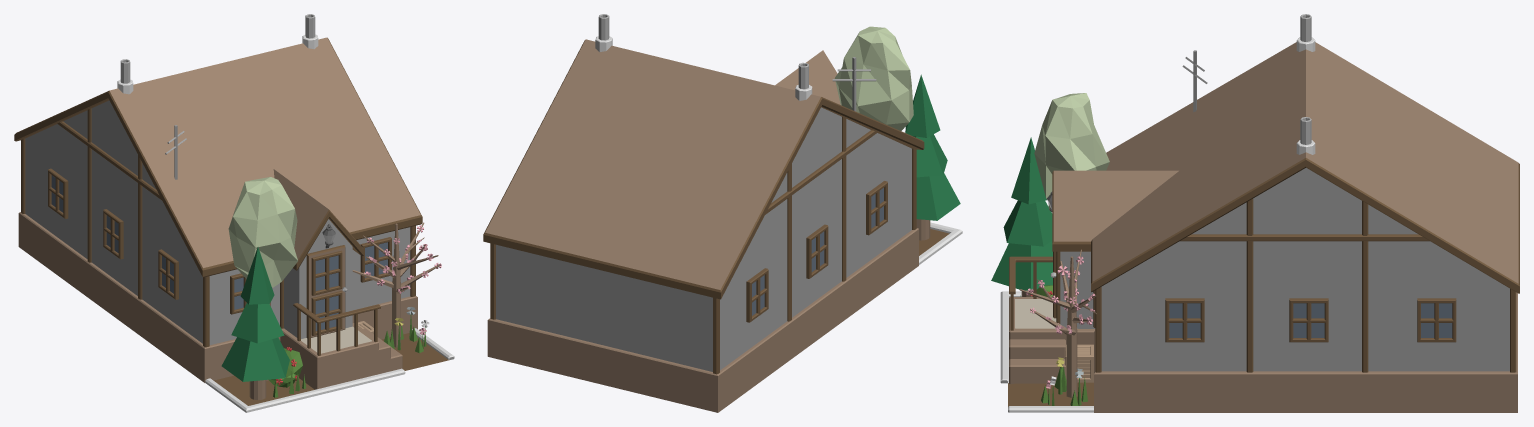
Rendered from casa_1_altura_a.fbx.
3 views of the same model, side by side, from view 1: azimuth 30°, elevation 25°; view 2: azimuth 150°, elevation 25°; view 3: azimuth 270°, elevation 25° (orthographic). The views are drawn at different scales.
Parts seen in each view (by area): view 1: casa_1_altura_a, casa_1_altura_a1, arbol_8, arbol_13, CASA_2_alturas3, arbol_14, ventana_192, puerta_25, ventana_193, ventana_195, ventana_199, ventana_200 (+10 smaller); view 2: casa_1_altura_a, arbol_8, arbol_13, casa_1_altura_a1, ventana_201, ventana_200, ventana_199, CASA_2_alturas3, pCube191, pCube193, pCube192, pCube190 (+4 smaller); view 3: casa_1_altura_a, casa_1_altura_a1, arbol_13, arbol_8, CASA_2_alturas3, arbol_14, pCube186, ventana_196, ventana_197, ventana_198, pCube183, pCube184 (+6 smaller).
Boxes of the visible parts, box(x1,y1,x2,y2) form: casa_1_altura_a: box(14, 37, 422, 382); casa_1_altura_a1: box(273, 169, 402, 389); arbol_8: box(228, 177, 297, 380); arbol_13: box(221, 247, 289, 400); CASA_2_alturas3: box(205, 328, 454, 412); arbol_14: box(352, 222, 441, 347); ventana_192: box(311, 250, 342, 295); puerta_25: box(306, 245, 347, 337); ventana_193: box(311, 291, 342, 335); ventana_195: box(360, 237, 391, 282); ventana_199: box(158, 249, 178, 299); ventana_200: box(103, 209, 123, 259); casa_1_altura_a: box(483, 39, 924, 412); arbol_8: box(834, 26, 913, 130); arbol_13: box(905, 74, 960, 240); casa_1_altura_a1: box(775, 50, 840, 104); ventana_201: box(746, 268, 768, 322); ventana_200: box(806, 224, 828, 278); ventana_199: box(866, 181, 887, 235); CASA_2_alturas3: box(919, 222, 962, 264); pCube191: box(765, 130, 877, 214); pCube193: box(842, 117, 846, 281); pCube192: box(787, 164, 791, 321); pCube190: box(713, 297, 719, 374); casa_1_altura_a: box(1091, 42, 1519, 412); casa_1_altura_a1: box(1009, 170, 1178, 384); arbol_13: box(991, 137, 1052, 296); arbol_8: box(1034, 93, 1109, 209); CASA_2_alturas3: box(1000, 291, 1093, 412); arbol_14: box(1019, 249, 1096, 397); pCube186: box(1180, 234, 1429, 241); ventana_196: box(1165, 298, 1204, 342); ventana_197: box(1289, 298, 1328, 342); ventana_198: box(1417, 298, 1456, 342); pCube183: box(1246, 198, 1253, 372); pCube184: box(1362, 201, 1368, 372).
Bounding box in the file's own units: 654 × 699 × 1165.
